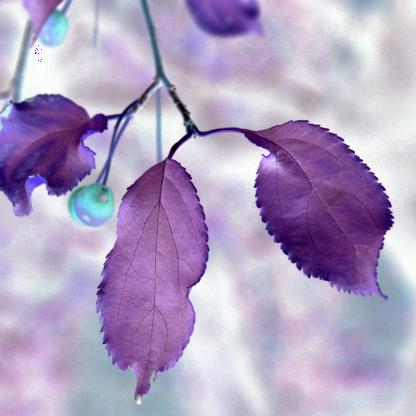apple leaf: (90, 147, 214, 415), (237, 115, 402, 311), (1, 85, 119, 222)
